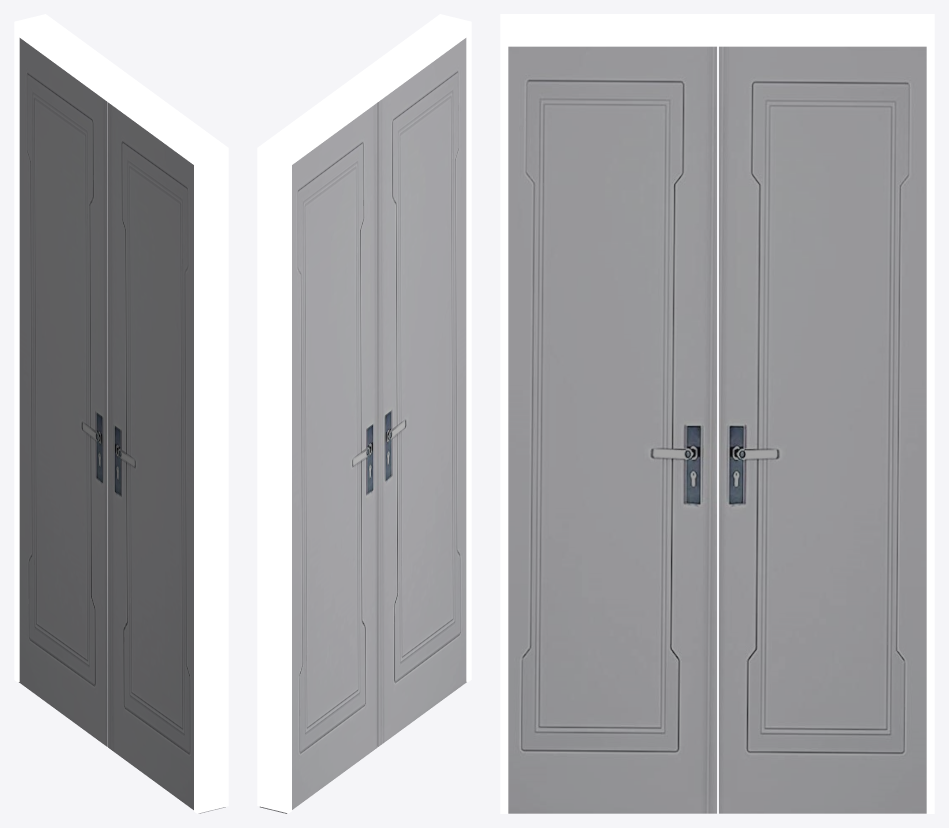
Rendered from french_door_walkin.e2543189.gltf.
The picture shows the model from 3 angles, left to right: view 1: azimuth 30°, elevation 25°; view 2: azimuth 150°, elevation 25°; view 3: azimuth 270°, elevation 25°; orthographic projection. The views are drawn at different scales.
Visible parts, largest first — view 1: door, trims; view 2: door, trims; view 3: door, trims.
Boxes of the visible parts, x1=… form: door: x1=19, y1=38, x2=225, y2=813; trims: x1=14, y1=14, x2=228, y2=813; door: x1=260, y1=38, x2=466, y2=813; trims: x1=257, y1=14, x2=471, y2=813; door: x1=508, y1=46, x2=926, y2=813; trims: x1=500, y1=14, x2=934, y2=813.
Size of the model in its own units: 0.2999 by 6.01 by 3.02.
2 materials, 1 textured.
